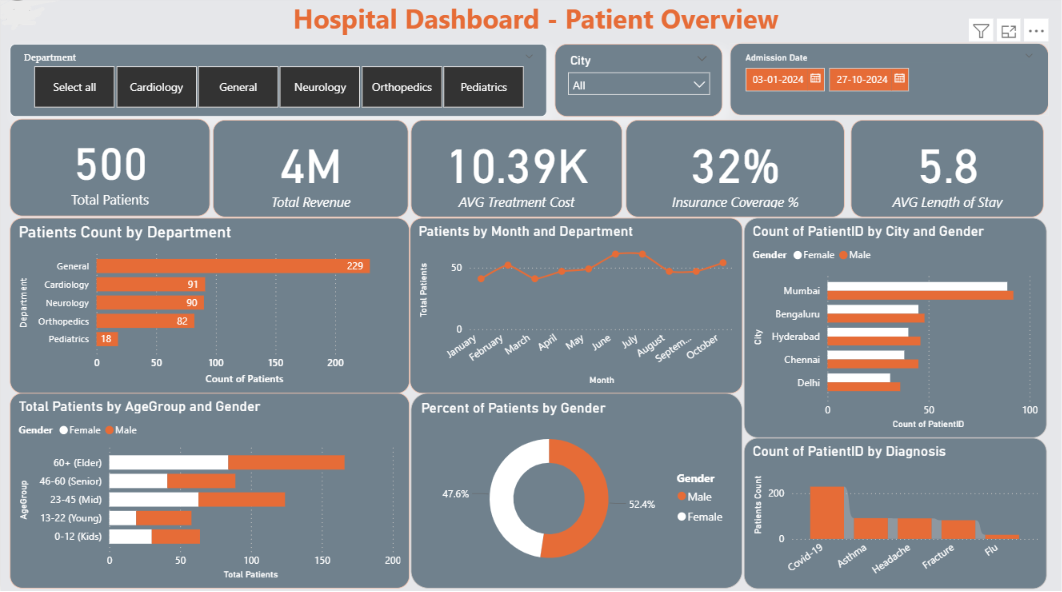

The dashboard page shown, as its layout file describes it:
{"tool":"powerbi","page":{"name":"Page 1","canvas":[1280,720],"ordinal":0},"visuals":[{"type":"textbox","box":[11.1,0,1269.1,56.8],"z":0},{"type":"barChart","fields":{"Category":["Hospital_Patient.AgeGroup"],"Series":["Hospital_Patient.Gender"],"Y":["Hospital_Patient.Total Patients"]},"box":[10.3,479.3,482.8,236.2],"z":1000},{"type":"donutChart","title":"Percent of Patients by Gender","fields":{"Category":["Hospital_Patient.Gender"],"Y":["CountNonNull(Hospital_Patient.PatientID)"]},"box":[494.8,479.3,400,236.2],"z":2000},{"type":"actionButton","box":[0,0,100,40],"z":3000},{"type":"clusteredBarChart","fields":{"Category":["Hospital_Patient.City"],"Y":["CountNonNull(Hospital_Patient.PatientID)"],"Series":["Hospital_Patient.Gender"]},"box":[896.6,267.2,365.5,265.5],"z":4000},{"type":"slicer","title":"Department","fields":{"Values":["Hospital_Patient.Department"]},"box":[10.7,57.3,648,88],"z":5000},{"type":"card","fields":{"Values":["Hospital_Patient.Total Revenue"]},"box":[255.2,150,236.2,117.2],"z":6000},{"type":"lineChart","title":"Patients by Month and Department","fields":{"Category":["Hospital_Patient.AdmissionDate.Variation.Date Hierarchy.Year","Hospital_Patient.AdmissionDate.Variation.Date Hierarchy.Quarter","Hospital_Patient.AdmissionDate.Variation.Date Hierarchy.Month","Hospital_Patient.AdmissionDate.Variation.Date Hierarchy.Day"],"Y":["Hospital_Patient.Total Patients"]},"box":[493.1,267.2,401.7,212.1],"z":7000},{"type":"clusteredBarChart","title":"Patients Count by Department","fields":{"Category":["Hospital_Patient.Department"],"Y":["CountNonNull(Hospital_Patient.PatientID)"]},"box":[10.3,267.2,482.8,212.1],"z":8000},{"type":"card","fields":{"Values":["Hospital_Patient.Total Patients"]},"box":[10.3,148.3,241.4,117.2],"z":9000},{"type":"slicer","fields":{"Values":["Hospital_Patient.City"]},"box":[668,57.3,202.7,88],"z":11000},{"type":"slicer","fields":{"Values":["Hospital_Patient.AdmissionDate"]},"box":[879.3,56.9,384.5,87.9],"z":12000},{"type":"columnChart","fields":{"Category":["Hospital_Patient.Diagnosis"],"Y":["CountNonNull(Hospital_Patient.PatientID)"]},"box":[896.6,532.8,365.5,182.8],"z":15000},{"type":"card","fields":{"Values":["Hospital_Patient.Avg Treatment Cost"]},"box":[494.8,150,255.2,117.2],"z":16000},{"type":"card","fields":{"Values":["Hospital_Patient.Avg Length of Stay"]},"box":[1025.9,150,232.8,117.2],"z":17000},{"type":"card","fields":{"Values":["Hospital_Patient.Insurance Coverage %"]},"box":[753.4,150,263.8,117.2],"z":18000}]}

Visuals, with their boxes in screenshot pixels (x1, y1, x2, y2), scaled from the page's 1280x720 canvas onto the 1062x592 screenshot:
textbox: locate(9, 0, 1061, 47)
barChart - Hospital_Patient.AgeGroup x Hospital_Patient.Gender: locate(9, 394, 409, 588)
"Percent of Patients by Gender" donutChart: locate(411, 394, 742, 588)
actionButton: locate(0, 0, 83, 33)
clusteredBarChart - Hospital_Patient.City x CountNonNull(Hospital_Patient.PatientID): locate(744, 220, 1047, 438)
"Department" slicer: locate(9, 47, 547, 119)
card - Hospital_Patient.Total Revenue: locate(212, 123, 408, 220)
"Patients by Month and Department" lineChart: locate(409, 220, 742, 394)
"Patients Count by Department" clusteredBarChart: locate(9, 220, 409, 394)
card - Hospital_Patient.Total Patients: locate(9, 122, 209, 218)
slicer - Hospital_Patient.City: locate(554, 47, 722, 119)
slicer - Hospital_Patient.AdmissionDate: locate(730, 47, 1049, 119)
columnChart - Hospital_Patient.Diagnosis x CountNonNull(Hospital_Patient.PatientID): locate(744, 438, 1047, 588)
card - Hospital_Patient.Avg Treatment Cost: locate(411, 123, 622, 220)
card - Hospital_Patient.Avg Length of Stay: locate(851, 123, 1044, 220)
card - Hospital_Patient.Insurance Coverage %: locate(625, 123, 844, 220)
